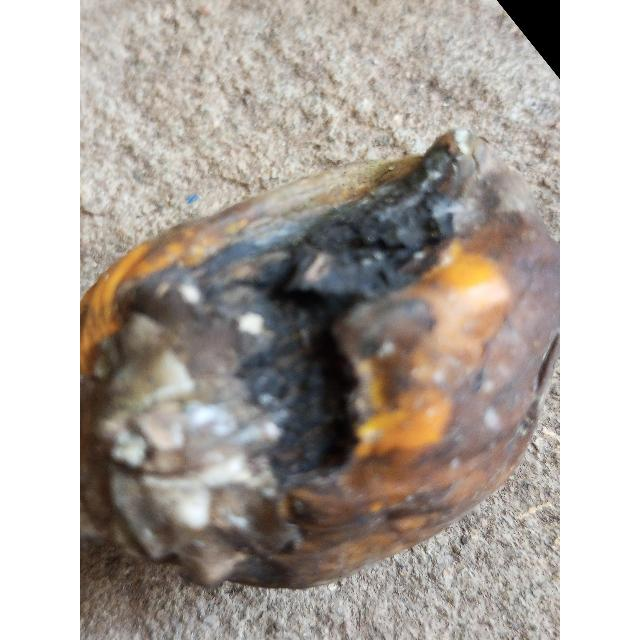damaged: (80, 128, 560, 595)
